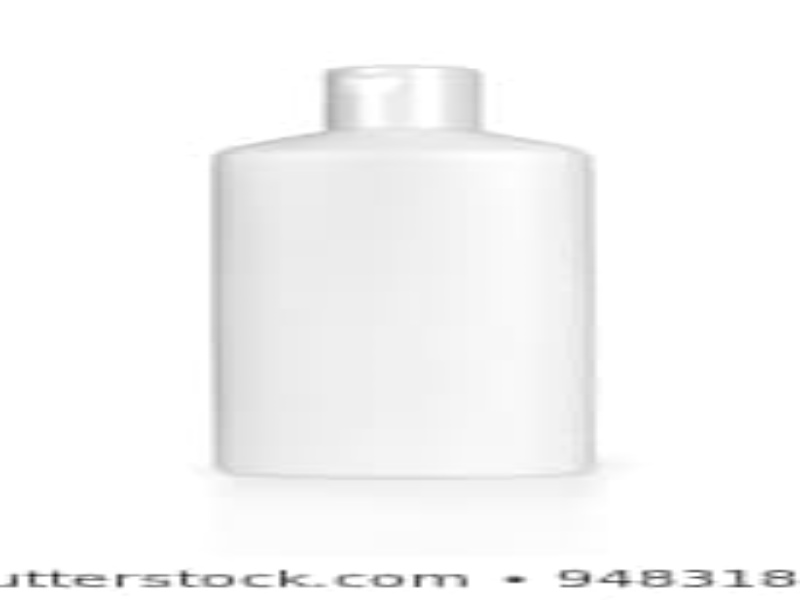shampoo-bottle: (202, 56, 614, 501)
